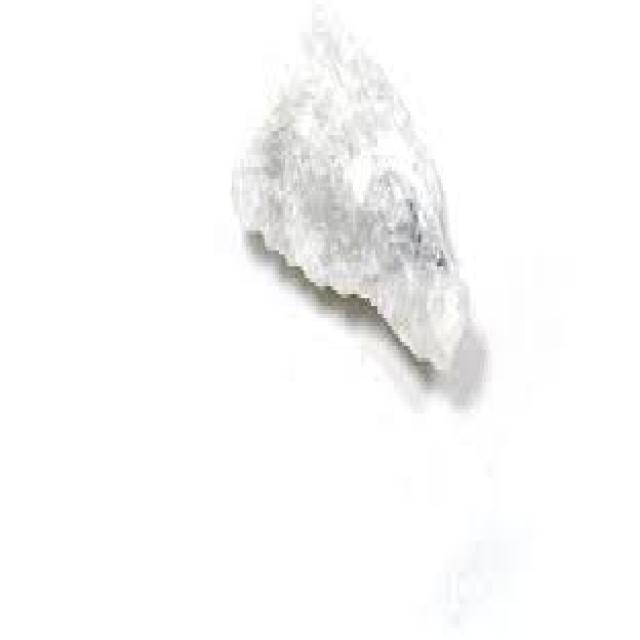Metamorphic: (220, 4, 482, 394)
